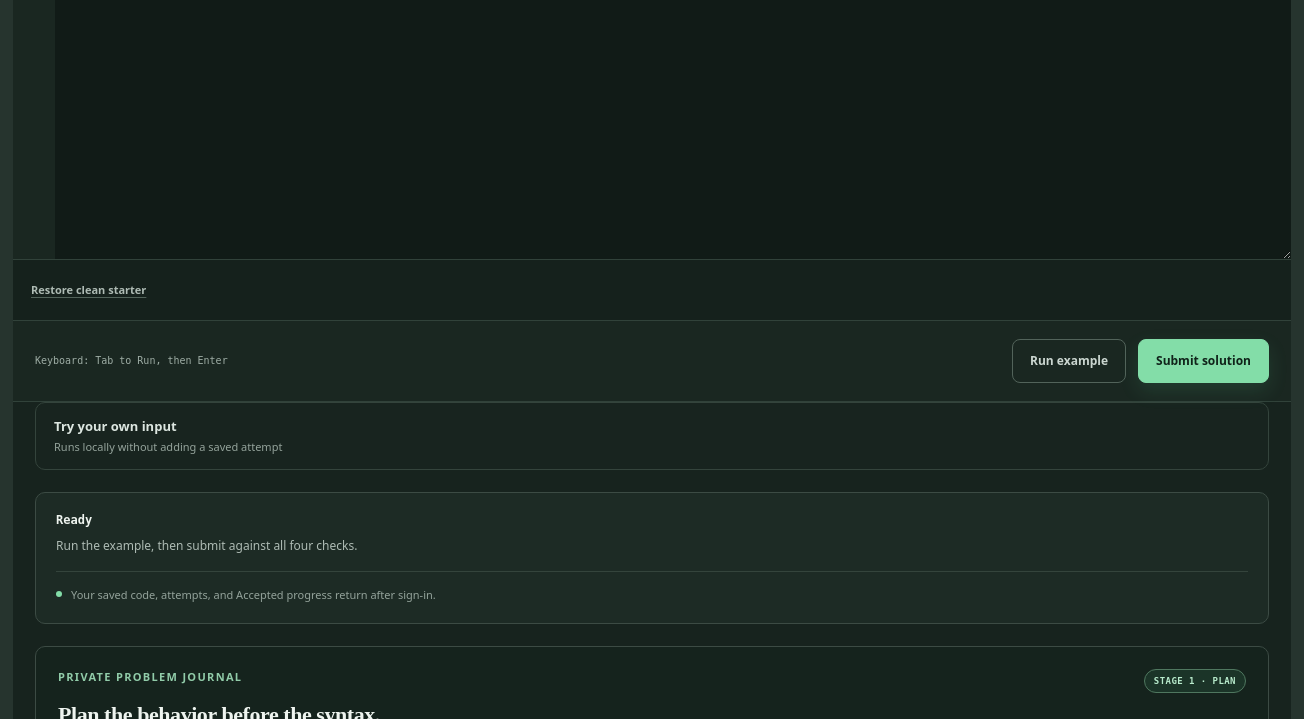
Test case: CodingWorkspace › reveals bounded recovery hints after a saved Wrong Answer
(page scrolled)
Click the button "Submit solution" at (1204, 361), box x1=1138 y1=339 x2=1269 y2=383
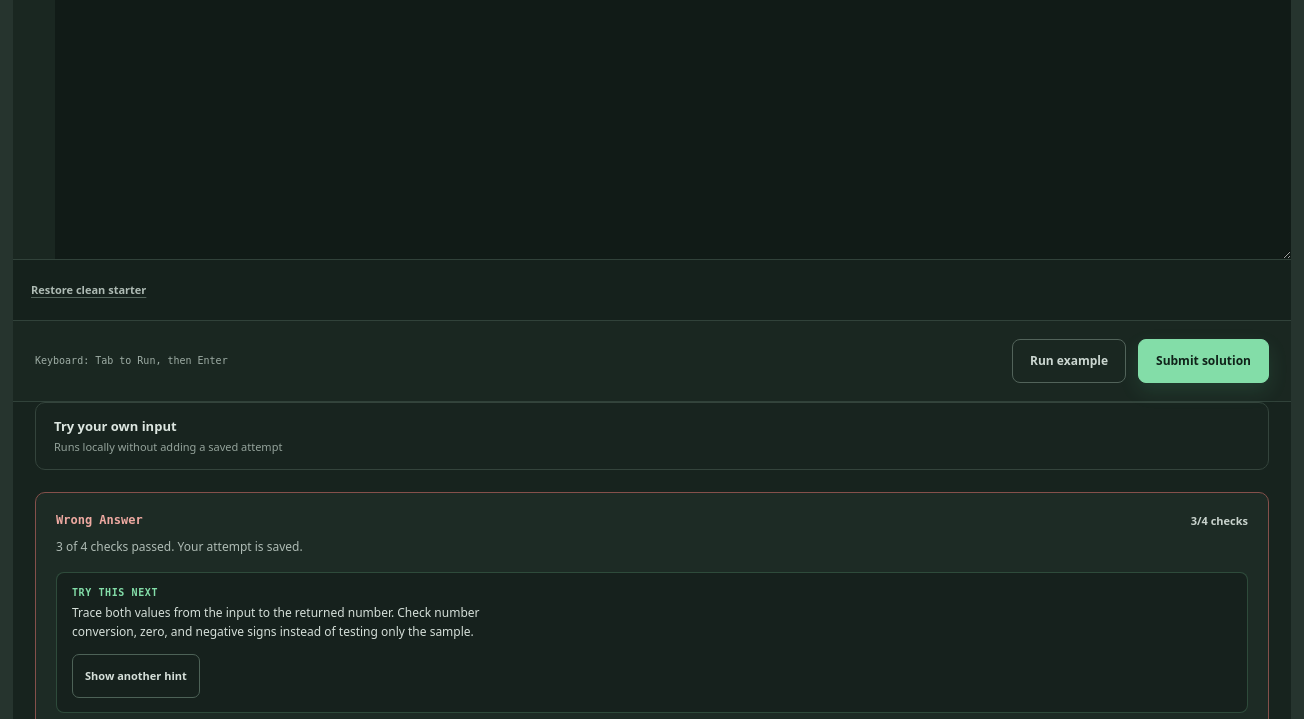
expect the text "Try this next" is shown: met, box x1=72 y1=587 x2=158 y2=598
expect the message shows "Trace both values from the input to the returned number. Check number conversion, zero, and negative signs instead of testing only the sample.": met, box x1=72 y1=604 x2=480 y2=640
Click the button "Show another hint" at (136, 676), box x1=72 y1=654 x2=200 y2=698
(page scrolled)
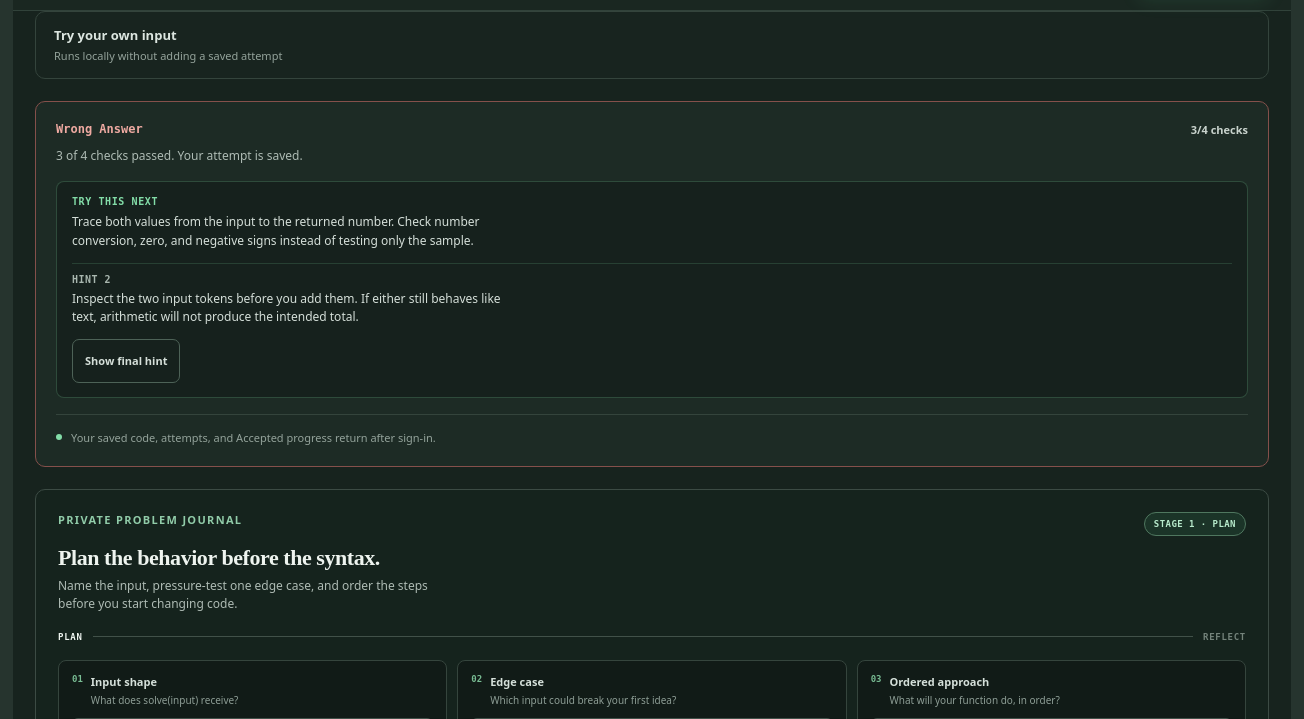
expect the text "Inspect the two input tokens before you add them. If either still behaves like text, arithmetic will not produce the int" is shown: met, box x1=72 y1=290 x2=501 y2=325
Click the button "Show final hint" at (126, 361), box x1=72 y1=339 x2=180 y2=383
(page scrolled)
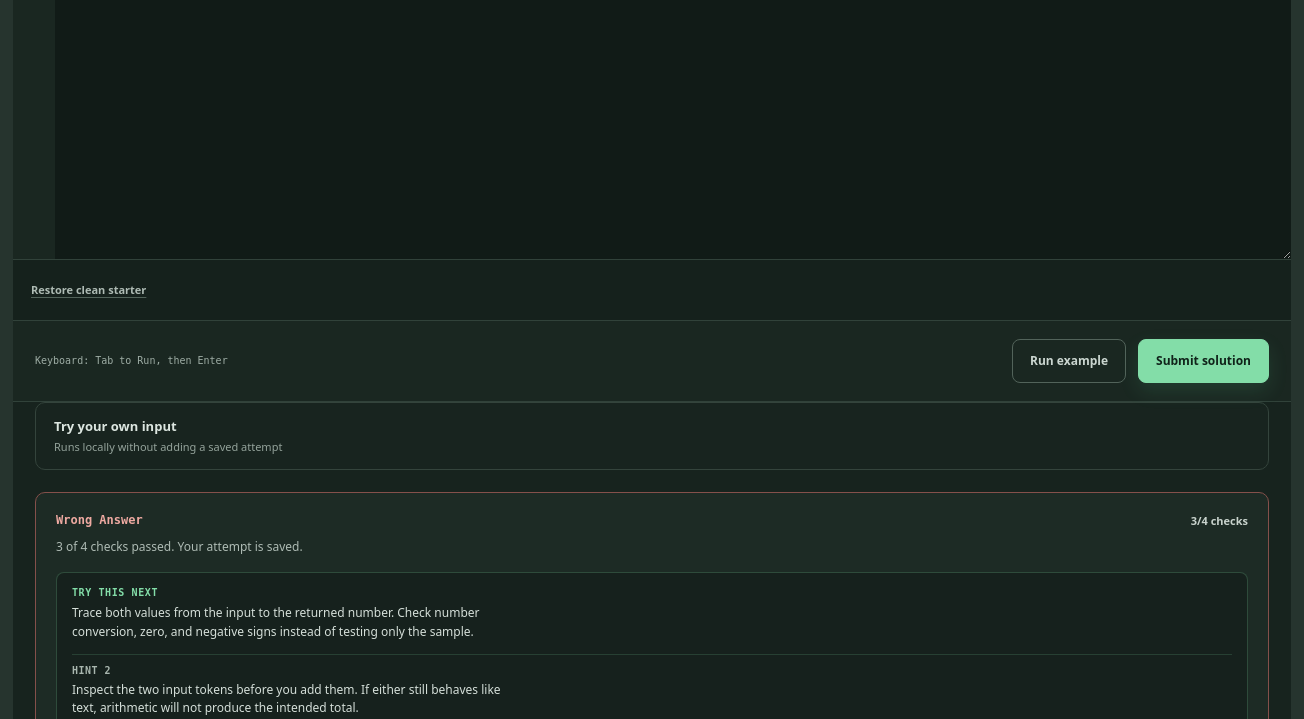
expect the button "Show final hint" is gone: met
Click the button "Submit solution" at (1204, 361), box x1=1138 y1=339 x2=1269 y2=383
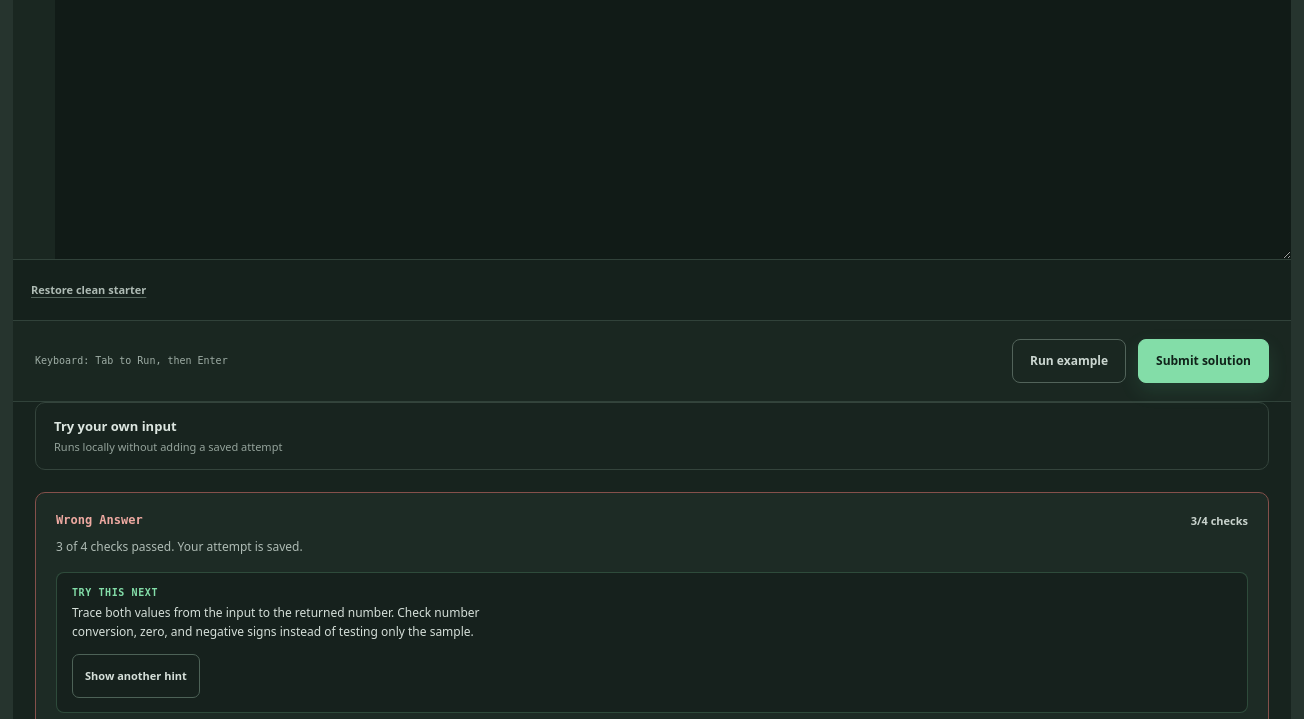
expect the button "Show another hint" is shown: met, box x1=72 y1=654 x2=200 y2=698
expect the text "Inspect the two input tokens before you add them. If either still behaves like text, arithmetic will not produce the int" is gone: met
